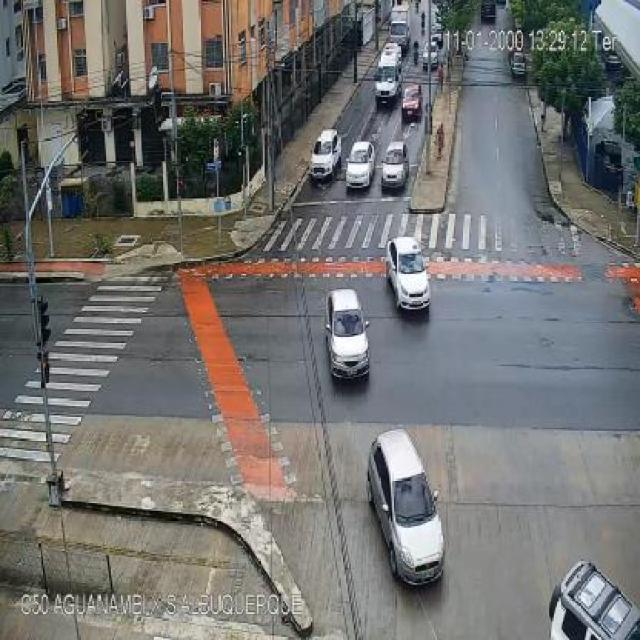car: (368, 429, 442, 586), (551, 561, 640, 639), (35, 296, 62, 507), (34, 296, 60, 506), (325, 290, 369, 379), (386, 238, 431, 309), (310, 129, 341, 181), (346, 141, 375, 189), (381, 141, 408, 189), (402, 84, 422, 122), (510, 51, 526, 79)
minibus: (375, 42, 401, 103)
